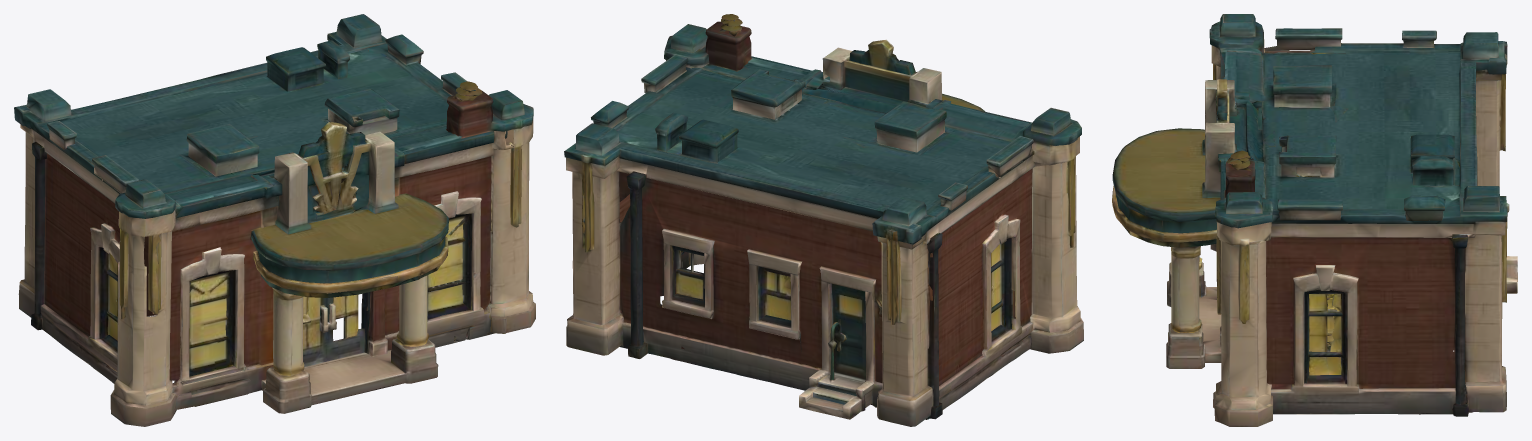
File: candidate.glb
3 renders of one model, left to right at view 1: azimuth 30°, elevation 25°; view 2: azimuth 150°, elevation 25°; view 3: azimuth 270°, elevation 25°, orthographic.
Parts seen in each view (by area): view 1: expansion__hotel_1__native_mobile; view 2: expansion__hotel_1__native_mobile; view 3: expansion__hotel_1__native_mobile.
Part boxes in pixels (x1,y1,x2,y2): expansion__hotel_1__native_mobile: [14, 14, 535, 426]; expansion__hotel_1__native_mobile: [564, 14, 1083, 426]; expansion__hotel_1__native_mobile: [1112, 14, 1517, 426].
Size of the model in its own units: 1 by 0.5836 by 0.8562.
Materials: 1 (1 with a texture image).
